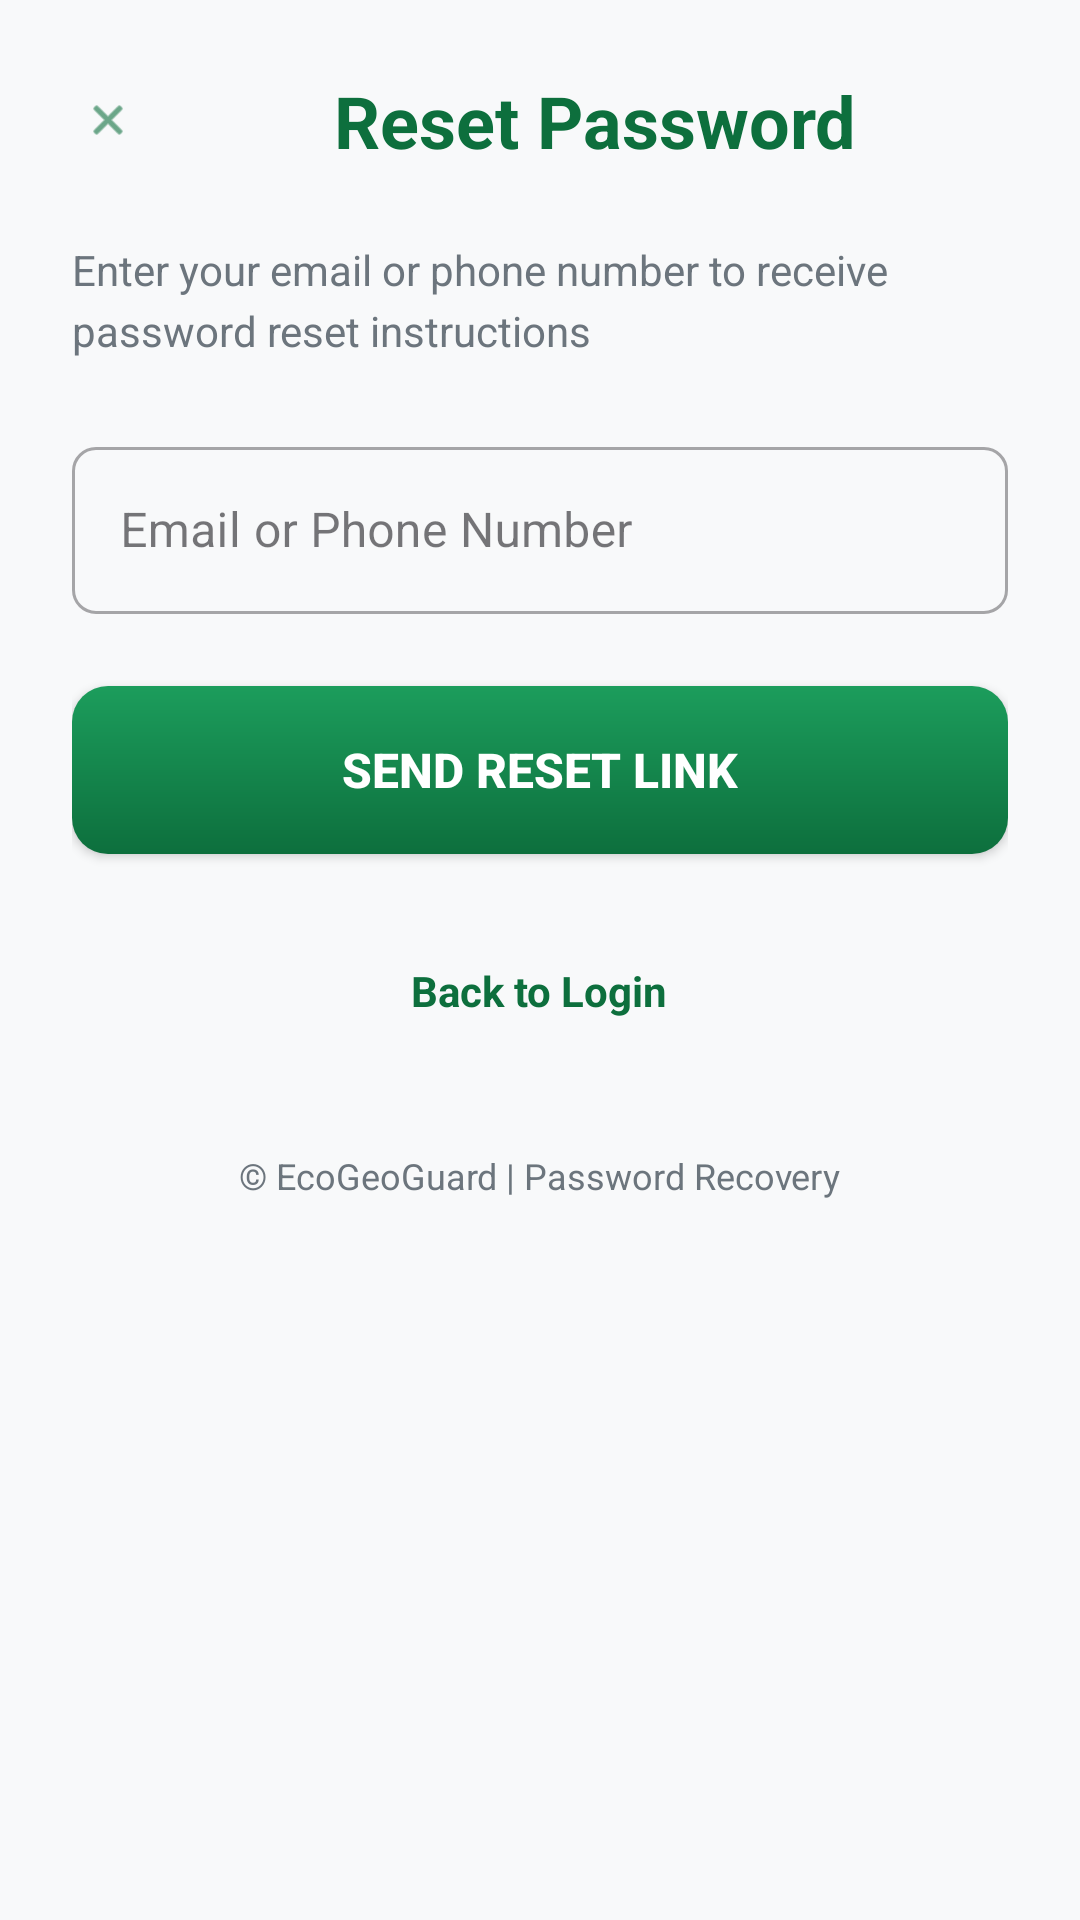

Screen size 1080 × 1920. Icon name, then its box in pixels as (x1, y1, x2, y2):
close clear cancel: (93, 105, 123, 135)
